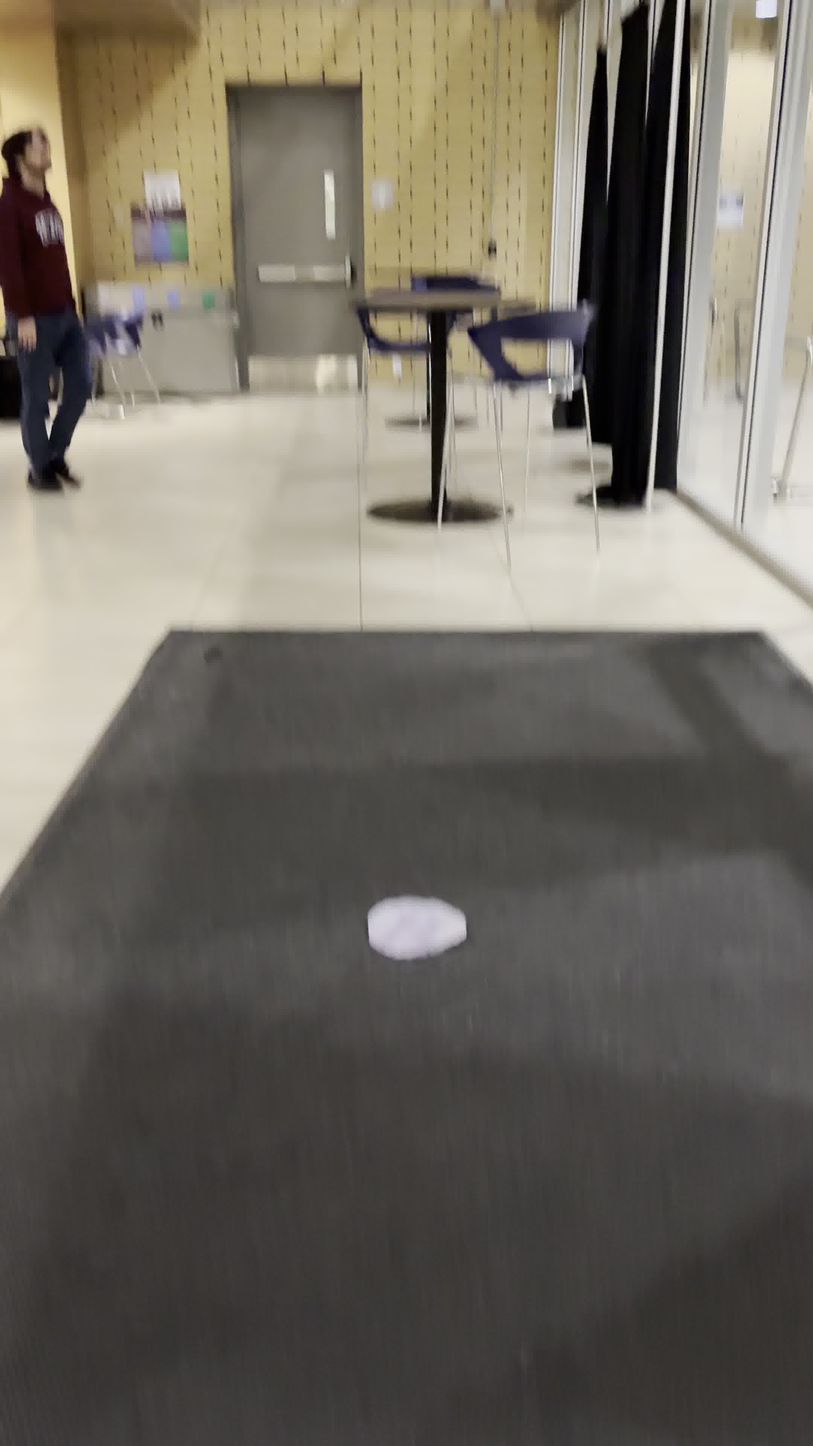Target: (366, 889, 469, 962)
